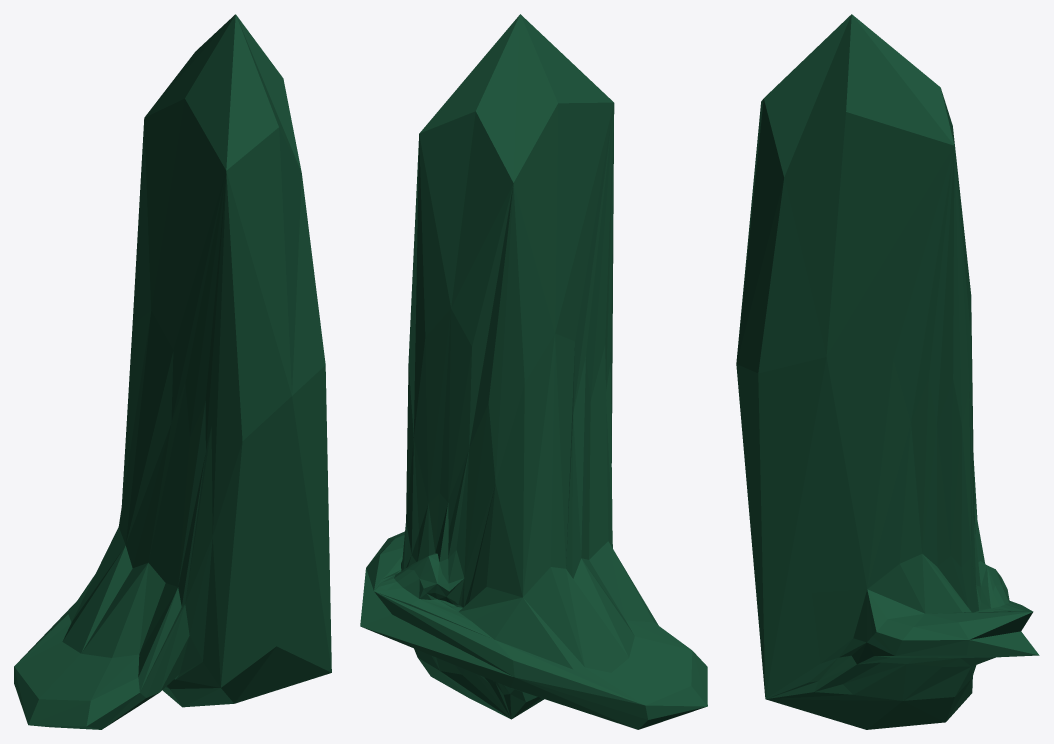
The picture shows the model from 3 angles, left to right: view 1: azimuth 30°, elevation 25°; view 2: azimuth 150°, elevation 25°; view 3: azimuth 270°, elevation 25°; orthographic projection. The views are drawn at different scales.
Visible parts, largest first — view 1: 025_Cube.111; view 2: 025_Cube.111; view 3: 025_Cube.111.
Part boxes in pixels (x1,y1,x2,y2): 025_Cube.111: (14, 14, 331, 729); 025_Cube.111: (360, 14, 707, 729); 025_Cube.111: (736, 14, 1039, 729).
Bounding box in the file's own units: 5.66 × 11.9 × 4.61.
